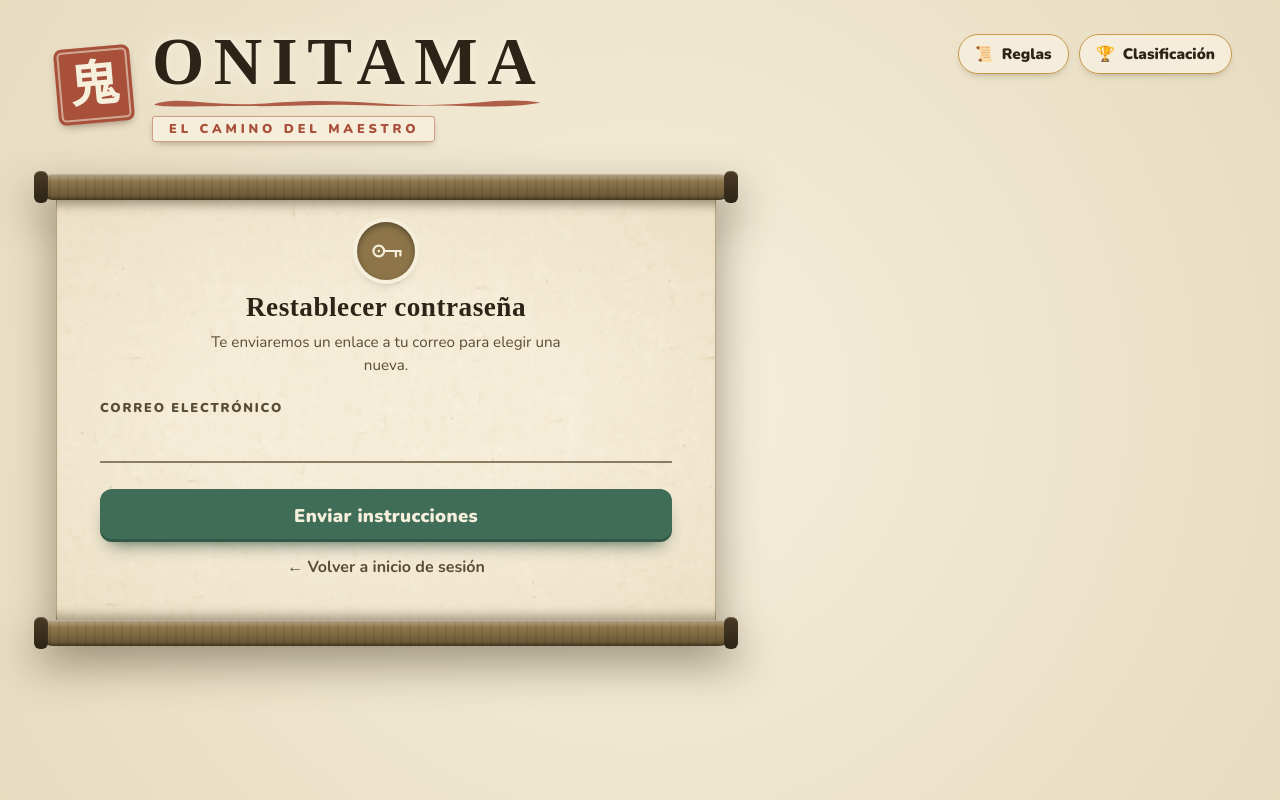
Test case: ForgotPasswordPage › muestra mensaje de éxito después de enviar el formulario, exista o no la cuenta
The width and height of the screenshot is (1280, 800).
Type "user@example.com" into the field labelled "Correo electrónico" at {"x": 386, "y": 441}, box [100, 419, 672, 463]
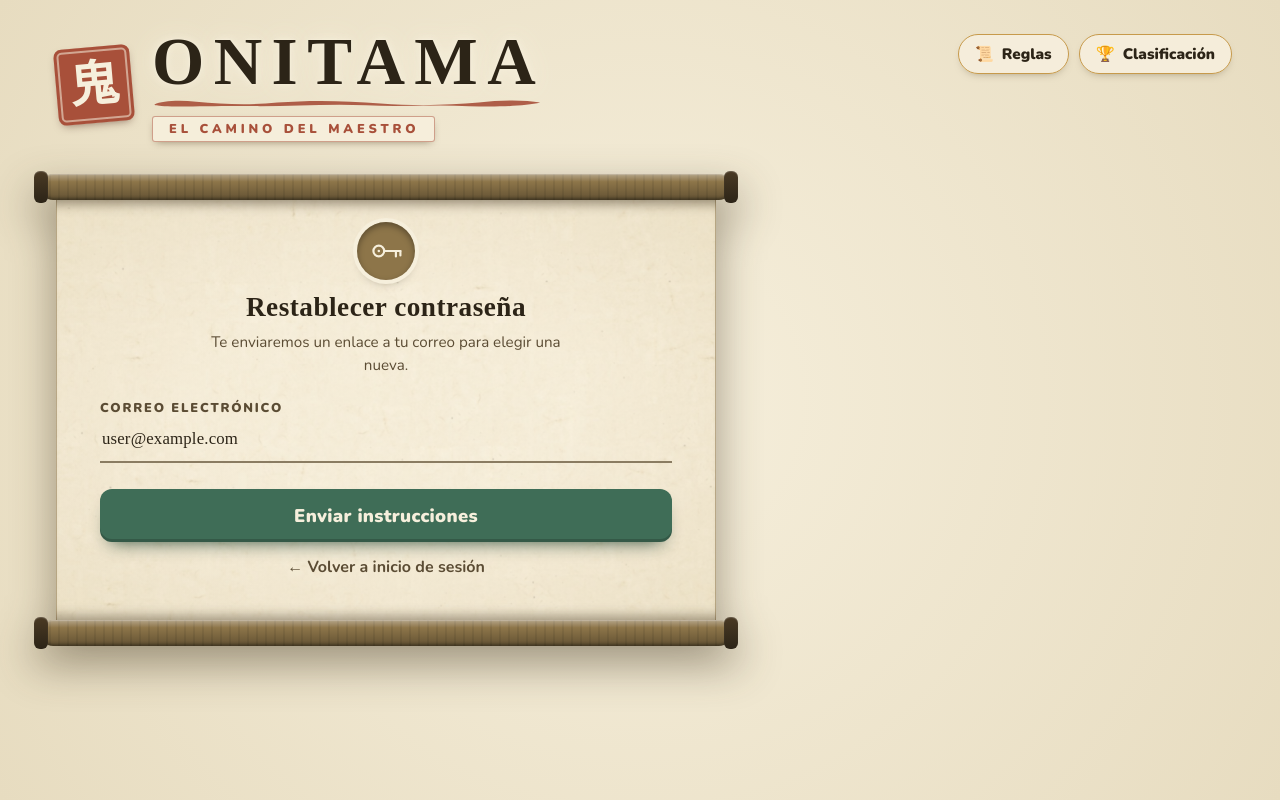
Click the button "Enviar instrucciones" at {"x": 386, "y": 515}, box [100, 489, 672, 542]
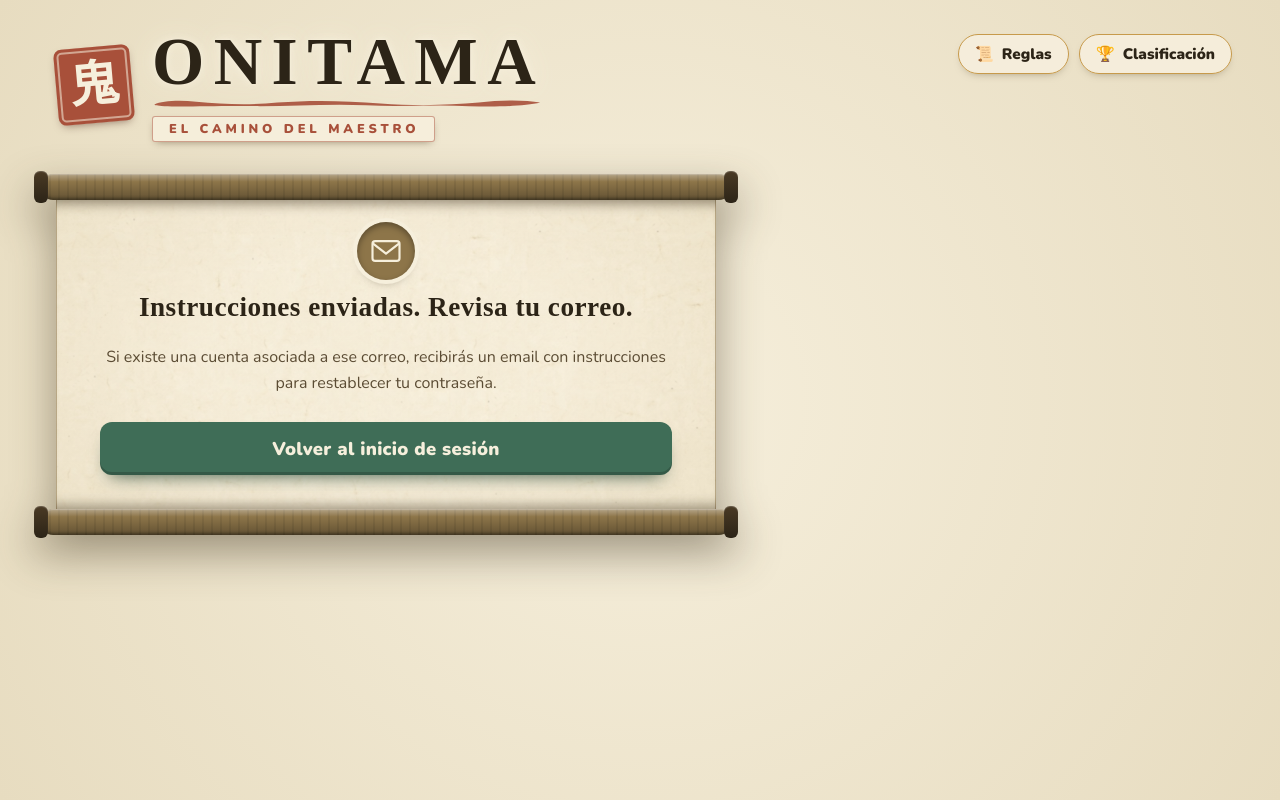
Expected: the heading "Instrucciones enviadas. Revisa tu correo." is shown, [139, 292, 633, 323]
